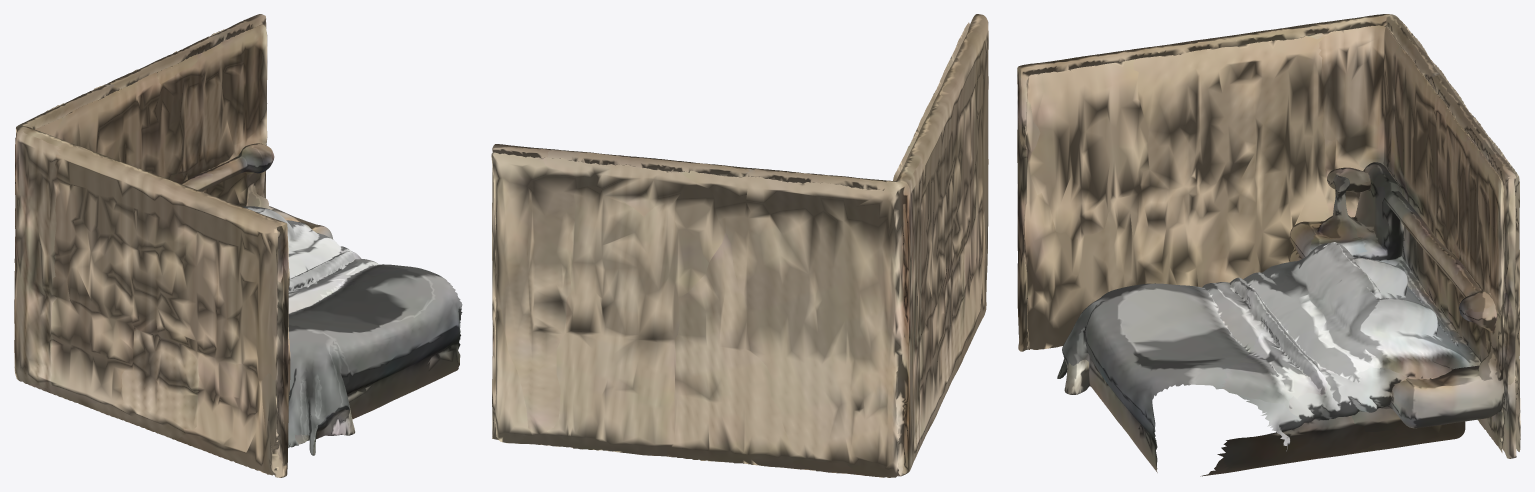
The model's file is room-bedroom.glb.
3 views of the same model, side by side, from view 1: azimuth 30°, elevation 25°; view 2: azimuth 150°, elevation 25°; view 3: azimuth 270°, elevation 25° (orthographic). The views are drawn at different scales.
Parts seen in each view (by area): view 1: room-bedroom; view 2: room-bedroom; view 3: room-bedroom.
Part boxes in pixels (x1,y1,x2,y2): room-bedroom: (14, 14, 462, 477); room-bedroom: (491, 14, 988, 477); room-bedroom: (1017, 14, 1520, 476).
Size of the model in its own units: 0.118 by 0.0846 by 0.1346.
Materials: 1 (1 with a texture image).
